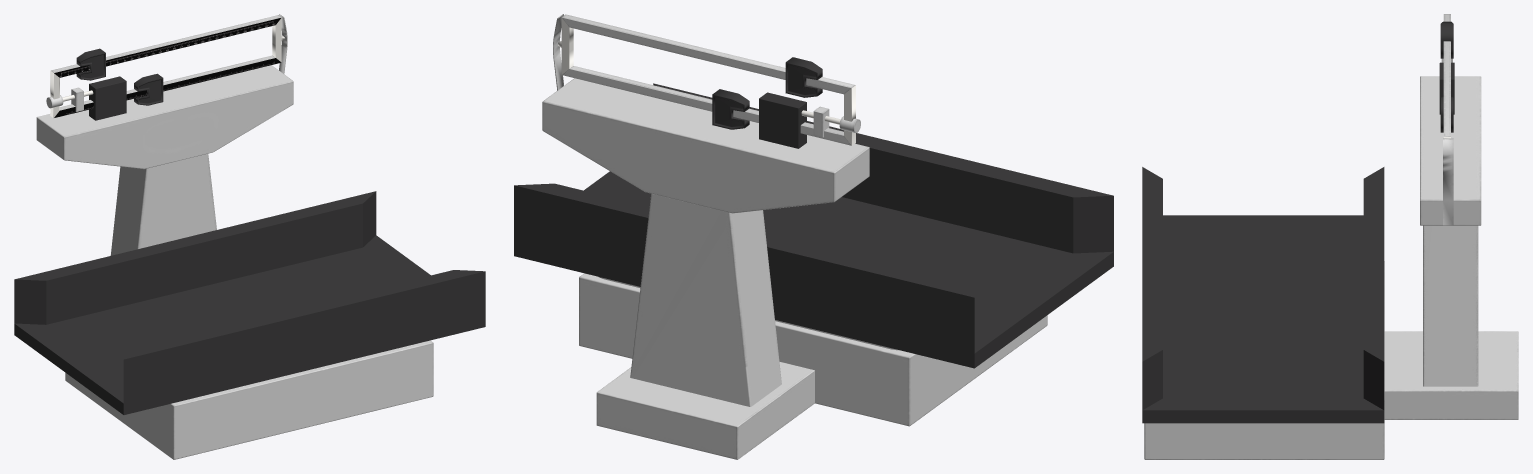
3 renders of one model, left to right at view 1: azimuth 30°, elevation 25°; view 2: azimuth 150°, elevation 25°; view 3: azimuth 270°, elevation 25°, orthographic. The views are drawn at different scales.
Visible parts, largest first — view 1: W-5; view 2: W-5; view 3: W-5.
Boxes of the visible parts, x1,y1,x2,y2 form: W-5: (14, 14, 485, 459); W-5: (514, 14, 1113, 459); W-5: (1142, 14, 1518, 459).
Bounding box in the file's own units: 65 × 50.32 × 52.98.
